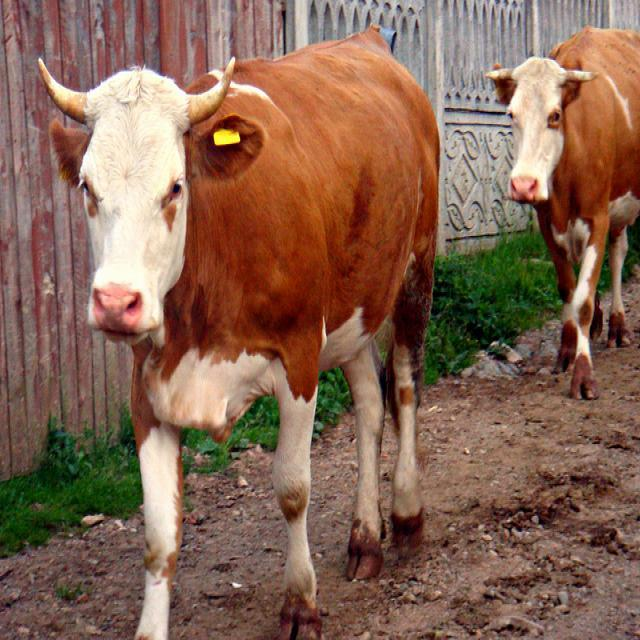cow: (31, 24, 441, 639), (485, 25, 639, 399)
